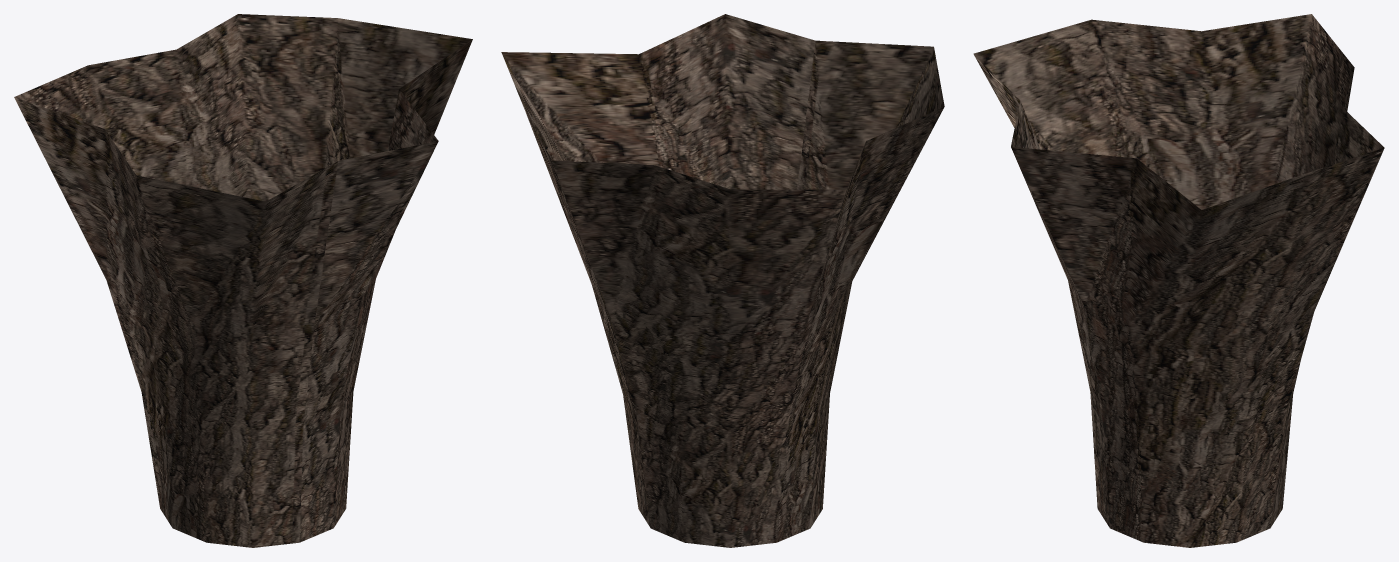
The model's file is Down.fbx.
3 renders of one model, left to right at view 1: azimuth 30°, elevation 25°; view 2: azimuth 150°, elevation 25°; view 3: azimuth 270°, elevation 25°, orthographic.
Parts seen in each view (by area): view 1: Down; view 2: Down; view 3: Down.
Boxes of the visible parts, left/top/right/bottom form: Down: left=14, top=14, right=472, bottom=547; Down: left=501, top=14, right=944, bottom=547; Down: left=973, top=14, right=1384, bottom=547.
Size of the model in its own units: 1.85 by 1.79 by 1.64.
